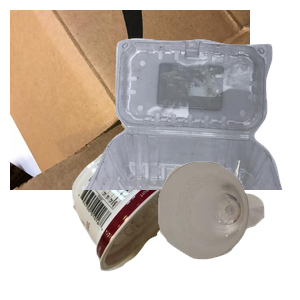cardboard: (10, 10, 250, 190)
glass: (156, 159, 300, 300)
plastic: (80, 36, 300, 216)
trash: (70, 149, 254, 300)
